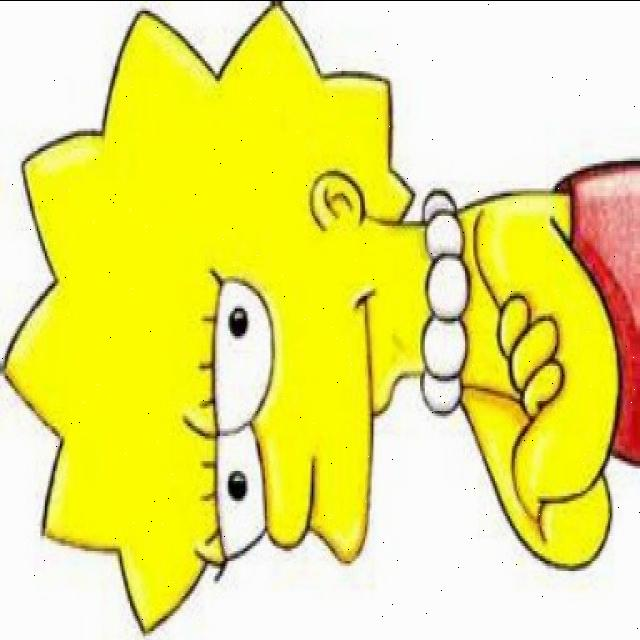Lisa Simpson: (0, 0, 472, 640)
